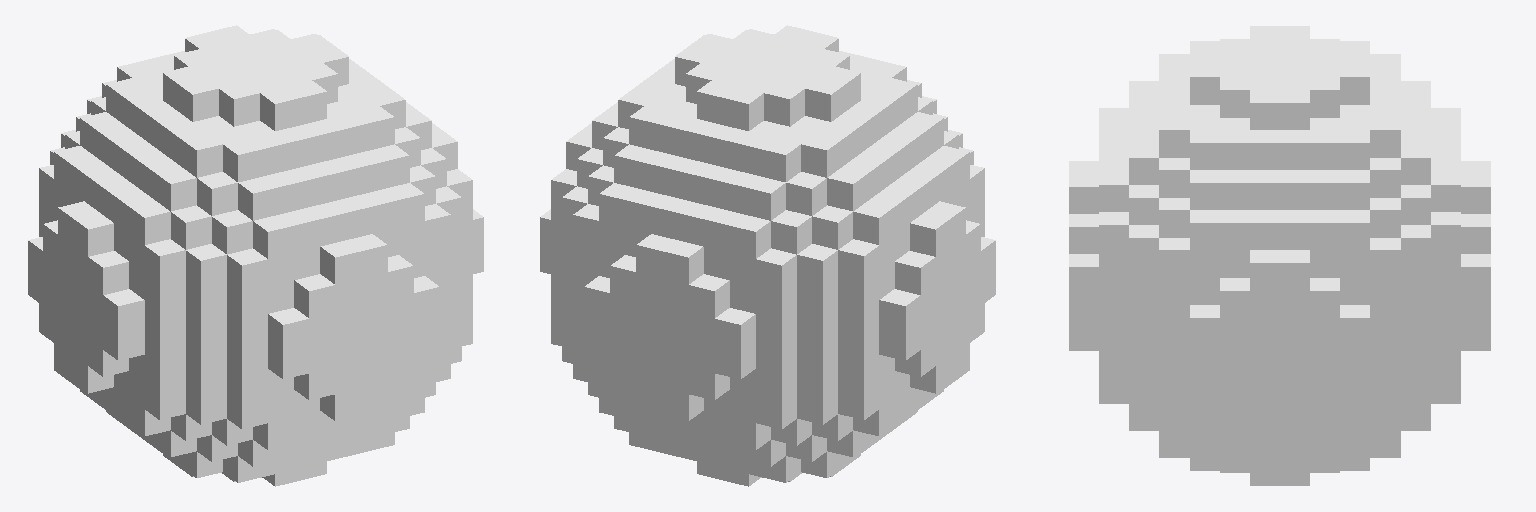
File: Tama.obj
The picture shows the model from 3 angles: view 1: azimuth 30°, elevation 25°; view 2: azimuth 150°, elevation 25°; view 3: azimuth 270°, elevation 25°; orthographic projection.
Parts seen in each view (by area): view 1: object 1; view 2: object 1; view 3: object 1.
Boxes of the visible parts, x1=… form: object 1: x1=28, y1=25, x2=483, y2=486; object 1: x1=540, y1=25, x2=995, y2=486; object 1: x1=1069, y1=26, x2=1490, y2=485.
Bounding box in the file's own units: 1.4 × 1.4 × 1.4.